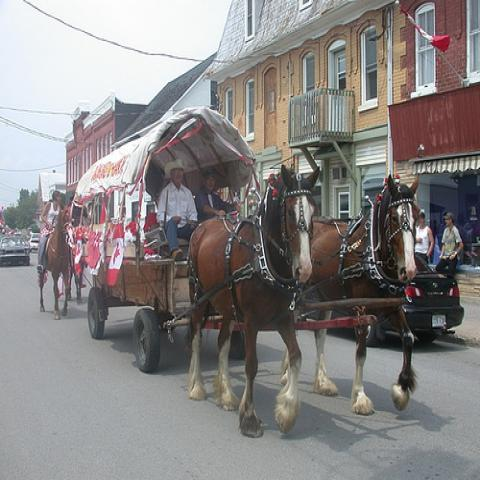car: (402, 249, 464, 343), (1, 233, 31, 267), (28, 233, 40, 253)
